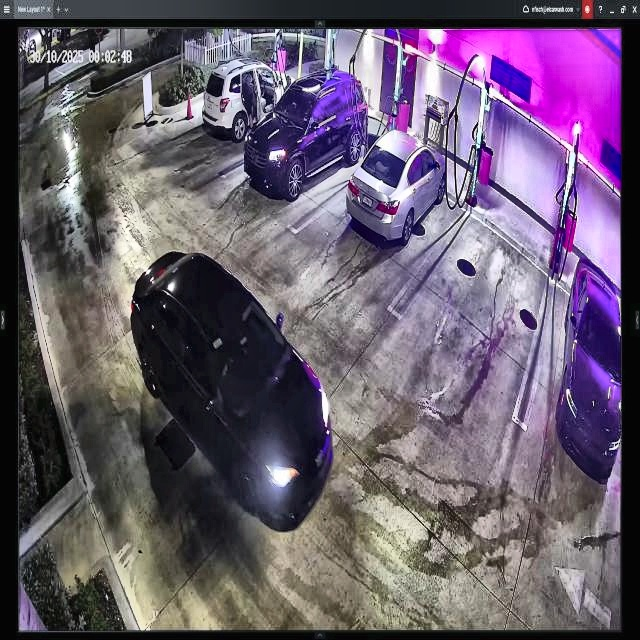Car: (132, 247, 334, 530), (243, 69, 366, 195), (348, 131, 445, 243)
